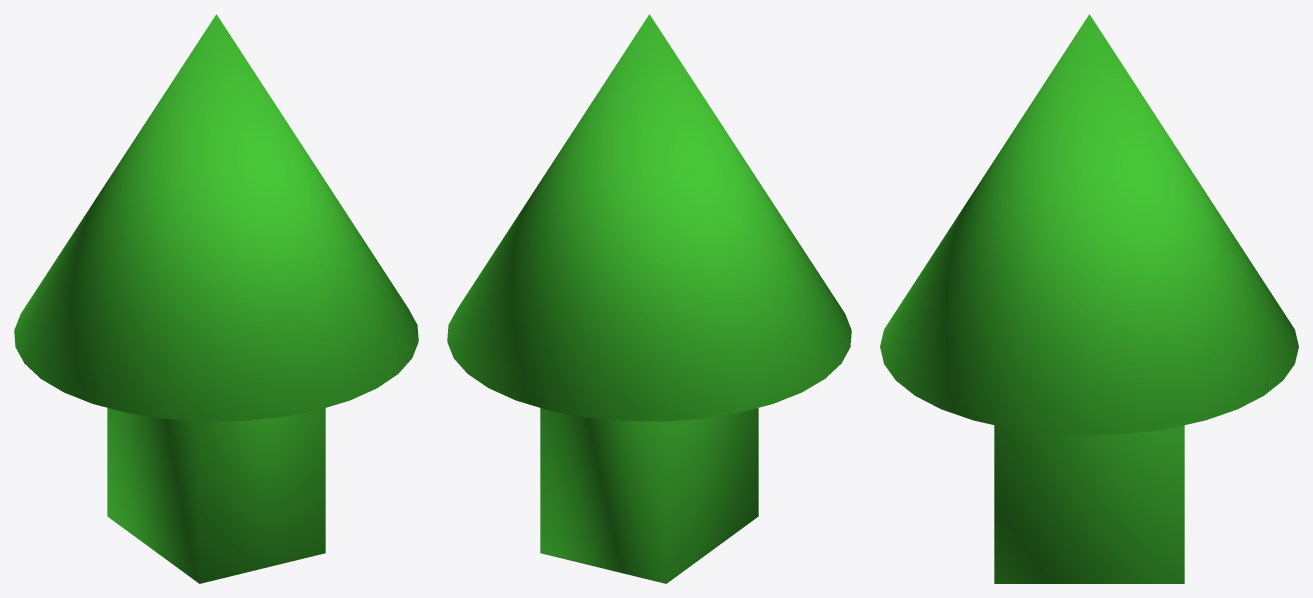
File: greenArrow.obj
The picture shows the model from 3 angles, left to right: view 1: azimuth 30°, elevation 25°; view 2: azimuth 150°, elevation 25°; view 3: azimuth 270°, elevation 25°; orthographic projection. The views are drawn at different scales.
Visible parts, largest first — view 1: 立方体; view 2: 立方体; view 3: 立方体.
Part boxes in pixels (box(x1,y1,x2,y2)): 立方体: box(14, 14, 418, 583); 立方体: box(447, 14, 851, 583); 立方体: box(880, 14, 1298, 583).
Size of the model in its own units: 4.35 by 6.16 by 4.35.
